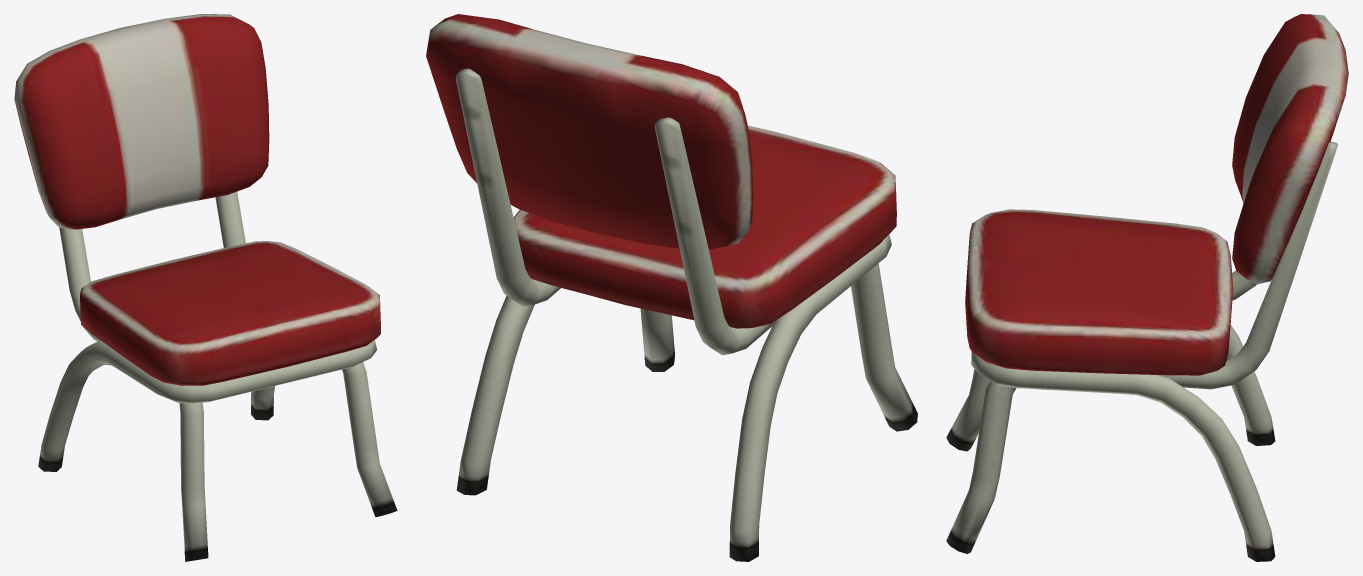
3 renders of one model, left to right at view 1: azimuth 30°, elevation 25°; view 2: azimuth 150°, elevation 25°; view 3: azimuth 270°, elevation 25°, orthographic. The views are drawn at different scales.
Size of the model in its own units: 5.95 by 9.27 by 7.69.
1 material, 1 textured.
